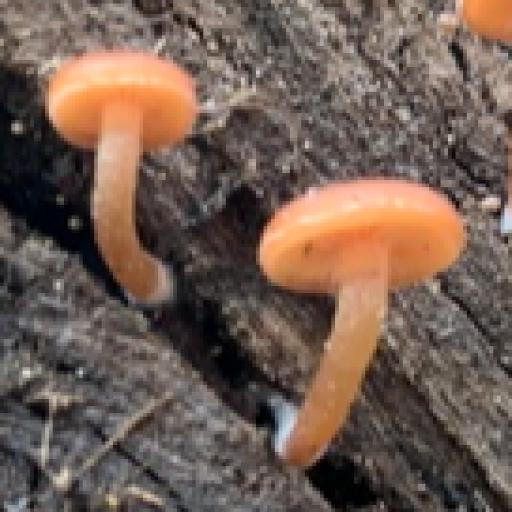mushroom: (251, 165, 472, 466), (42, 38, 204, 316)
